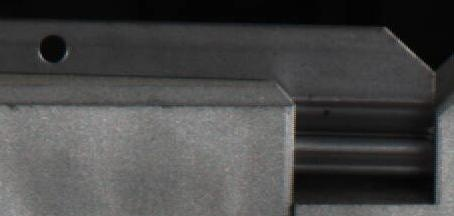cut: (303, 23, 436, 200)
holes: (36, 32, 70, 63)
